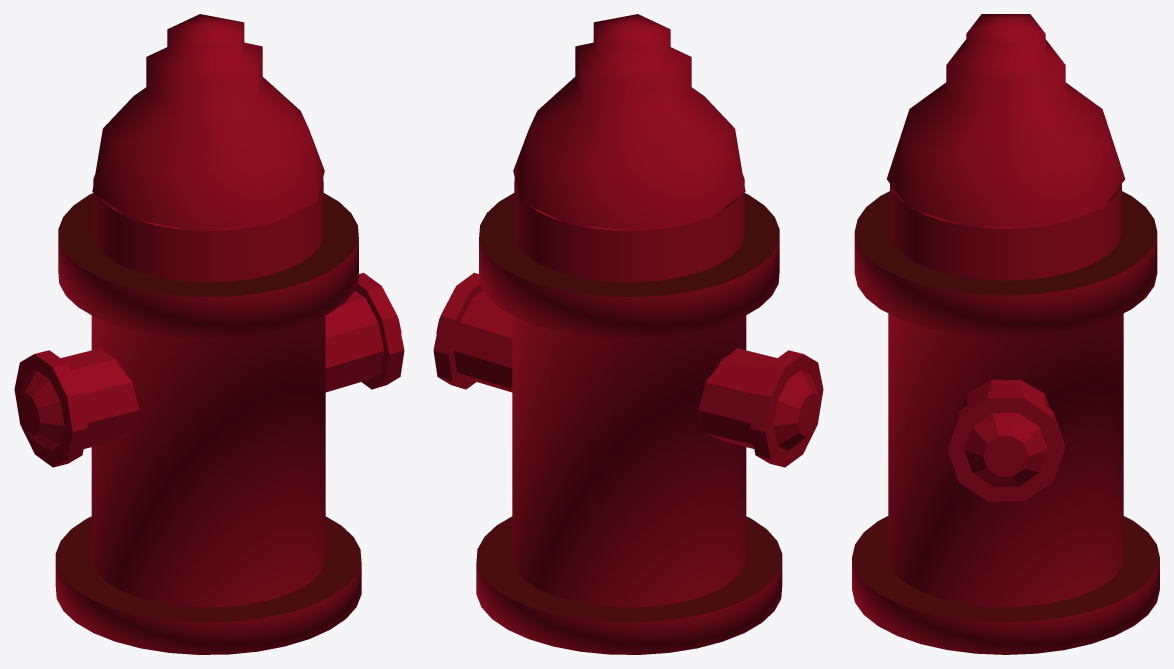
Rendered from yangın musluğu son.fbx.
The picture shows the model from 3 angles, left to right: view 1: azimuth 30°, elevation 25°; view 2: azimuth 150°, elevation 25°; view 3: azimuth 270°, elevation 25°; orthographic projection.
Visible parts, largest first — view 1: Daire; view 2: Daire; view 3: Daire.
Part boxes in pixels (<box>): Daire: <box>14,14,404,654</box>; Daire: <box>433,14,823,654</box>; Daire: <box>852,14,1159,654</box>.
Bounding box in the file's own units: 273 × 408 × 200.
